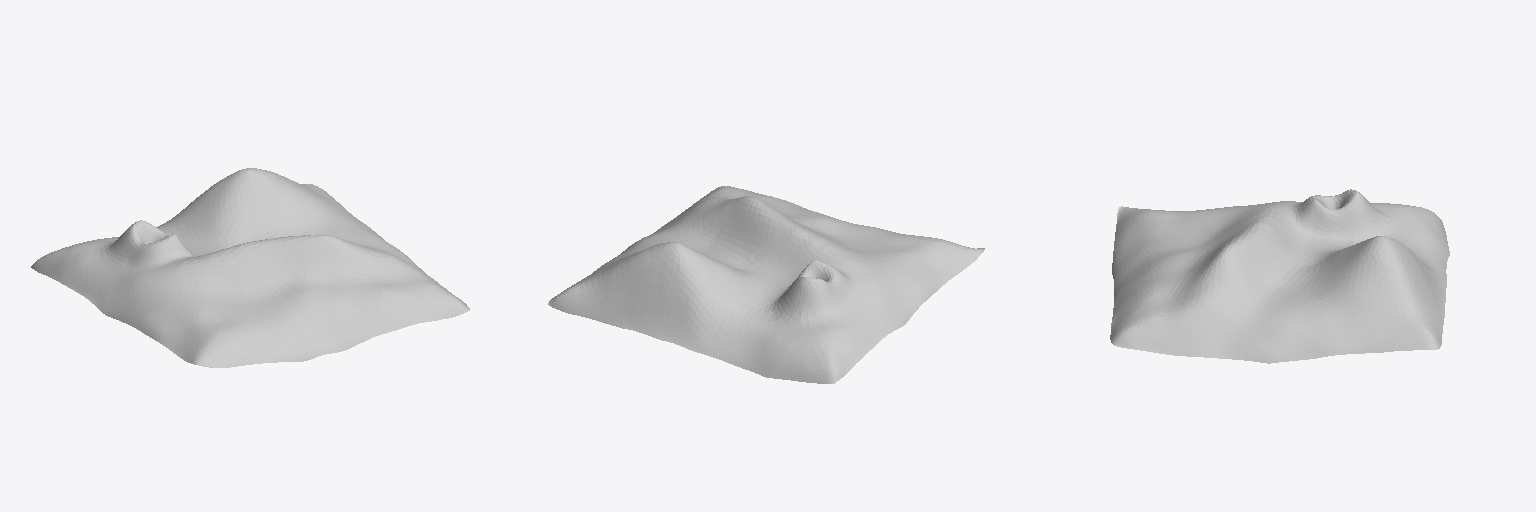
The model's file is Terrain1.obj.
The picture shows the model from 3 angles: view 1: azimuth 30°, elevation 25°; view 2: azimuth 150°, elevation 25°; view 3: azimuth 270°, elevation 25°; orthographic projection.
Size of the model in its own units: 13894 by 3519 by 13775.